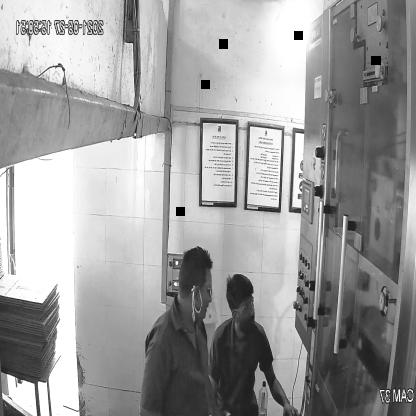goggles: (228, 296, 258, 317)
